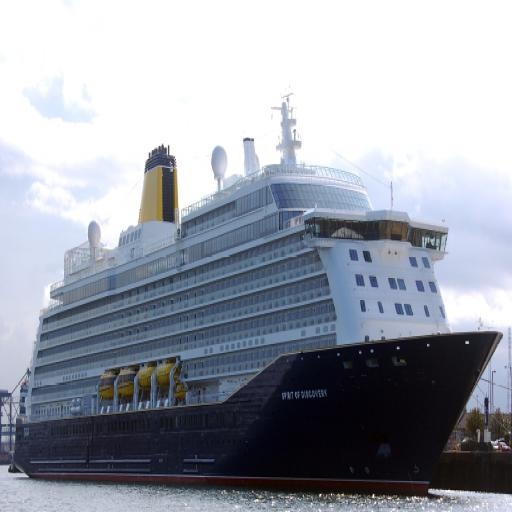cruises: (17, 80, 506, 510)
